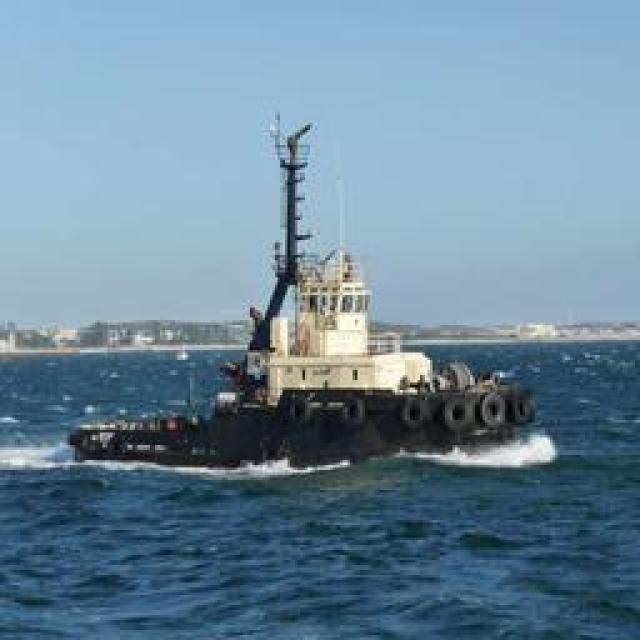CIV_Ship: (74, 102, 568, 472)
